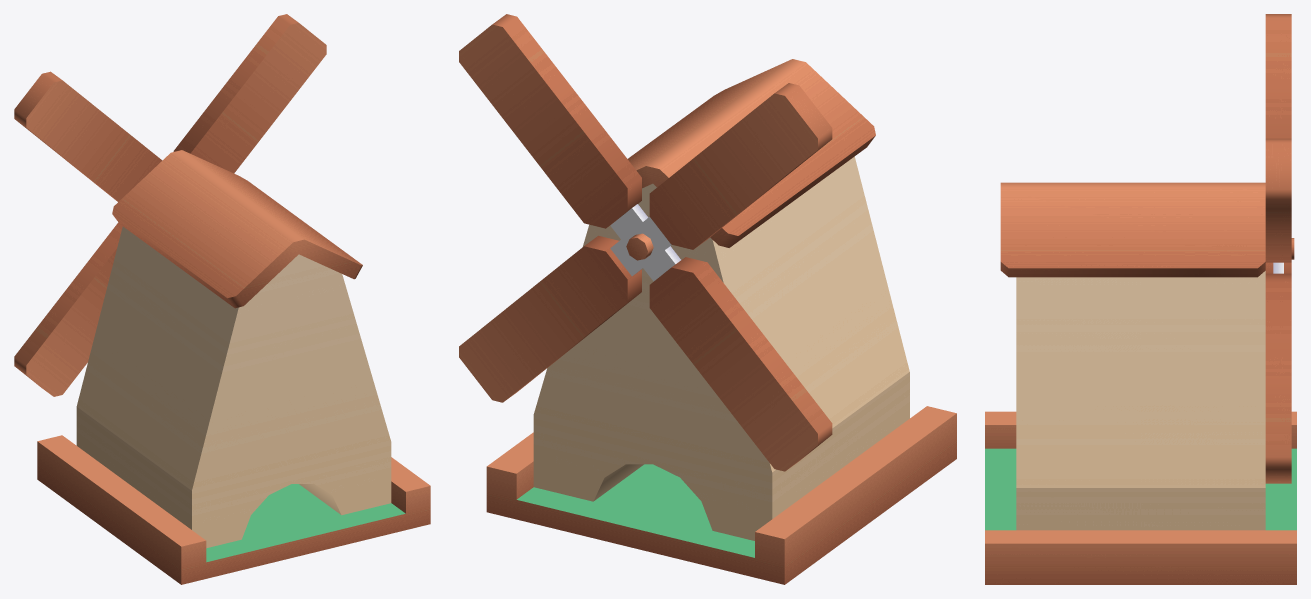
The model's file is windmill.glb.
The picture shows the model from 3 angles, left to right: view 1: azimuth 30°, elevation 25°; view 2: azimuth 150°, elevation 25°; view 3: azimuth 270°, elevation 25°; orthographic projection. The views are drawn at different scales.
Parts seen in each view (by area): view 1: windmill, blades; view 2: windmill, blades; view 3: windmill, blades.
Part boxes in pixels (x1,y1,x2,y2): windmill: [37, 150, 430, 584]; blades: [14, 14, 326, 396]; windmill: [486, 59, 956, 584]; blades: [459, 14, 832, 471]; windmill: [985, 182, 1296, 584]; blades: [1265, 14, 1294, 483].
Size of the model in its own units: 1.2 by 1.56 by 0.9999.
Materials: 1 (1 with a texture image).
